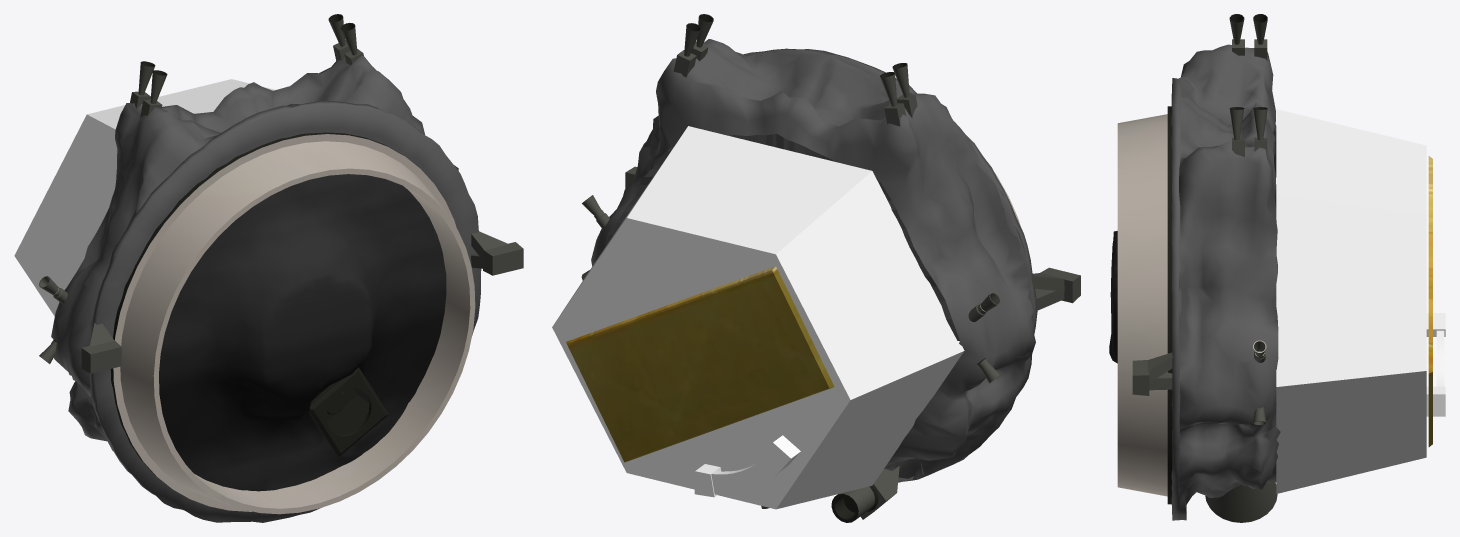
File: deep-impact.glb
3 renders of one model, left to right at view 1: azimuth 30°, elevation 25°; view 2: azimuth 150°, elevation 25°; view 3: azimuth 270°, elevation 25°, orthographic. The views are drawn at different scales.
Visible parts, largest first — view 1: foil_silver_I, tex_01_I, black_krinkle_I, aluminum_I; view 2: aluminum_I, black_krinkle_I, tex_01_I; view 3: aluminum_I, black_krinkle_I, tex_01_I, foil_silver_I.
Boxes of the visible parts, x1=… form: foil_silver_I: x1=159, y1=174, x2=446, y2=491; tex_01_I: x1=39, y1=14, x2=523, y2=514; black_krinkle_I: x1=51, y1=55, x2=481, y2=522; aluminum_I: x1=14, y1=79, x2=275, y2=316; aluminum_I: x1=552, y1=126, x2=964, y2=509; black_krinkle_I: x1=591, y1=39, x2=1037, y2=482; tex_01_I: x1=566, y1=14, x2=1080, y2=522; aluminum_I: x1=1276, y1=109, x2=1445, y2=493; black_krinkle_I: x1=1171, y1=44, x2=1280, y2=520; tex_01_I: x1=1117, y1=14, x2=1432, y2=522; foil_silver_I: x1=1109, y1=231, x2=1117, y2=363.
Size of the model in its own units: 1.25 by 1.25 by 0.8549.
4 materials, 2 textured.
